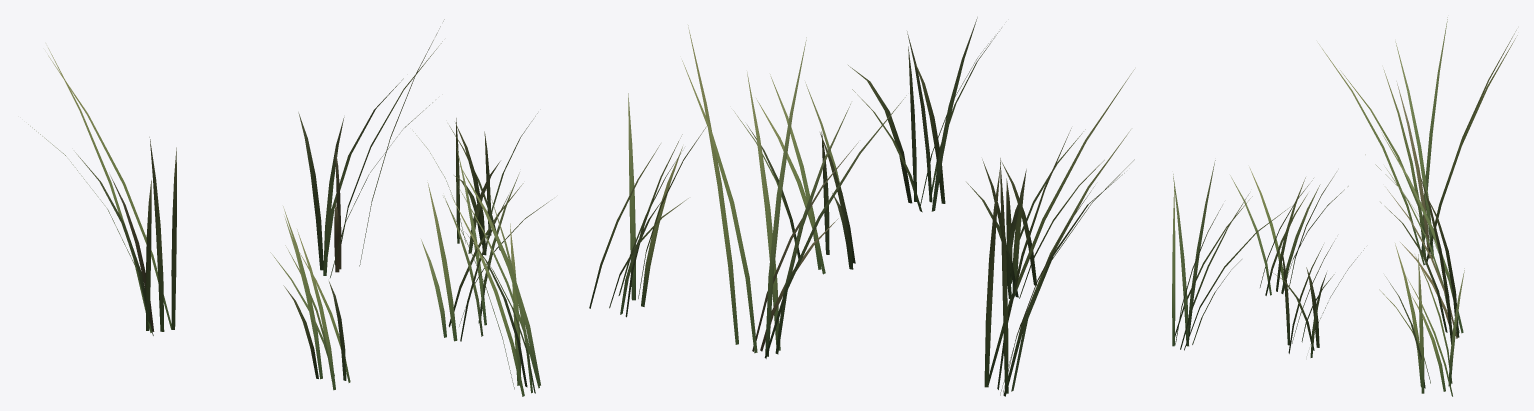
The model's file is meadow_fine.gltf.
3 renders of one model, left to right at view 1: azimuth 30°, elevation 25°; view 2: azimuth 150°, elevation 25°; view 3: azimuth 270°, elevation 25°, orthographic. The views are drawn at different scales.
Parts seen in each view (by area): view 1: meadow_fine; view 2: meadow_fine; view 3: meadow_fine.
Part boxes in pixels (x1=…): meadow_fine: x1=28, y1=19, x2=552, y2=396; meadow_fine: x1=589, y1=17, x2=1134, y2=396; meadow_fine: x1=1172, y1=17, x2=1517, y2=396.
Bounding box in the file's own units: 1.4 × 0.7284 × 1.08.
Materials: 3 (3 with a texture image).
